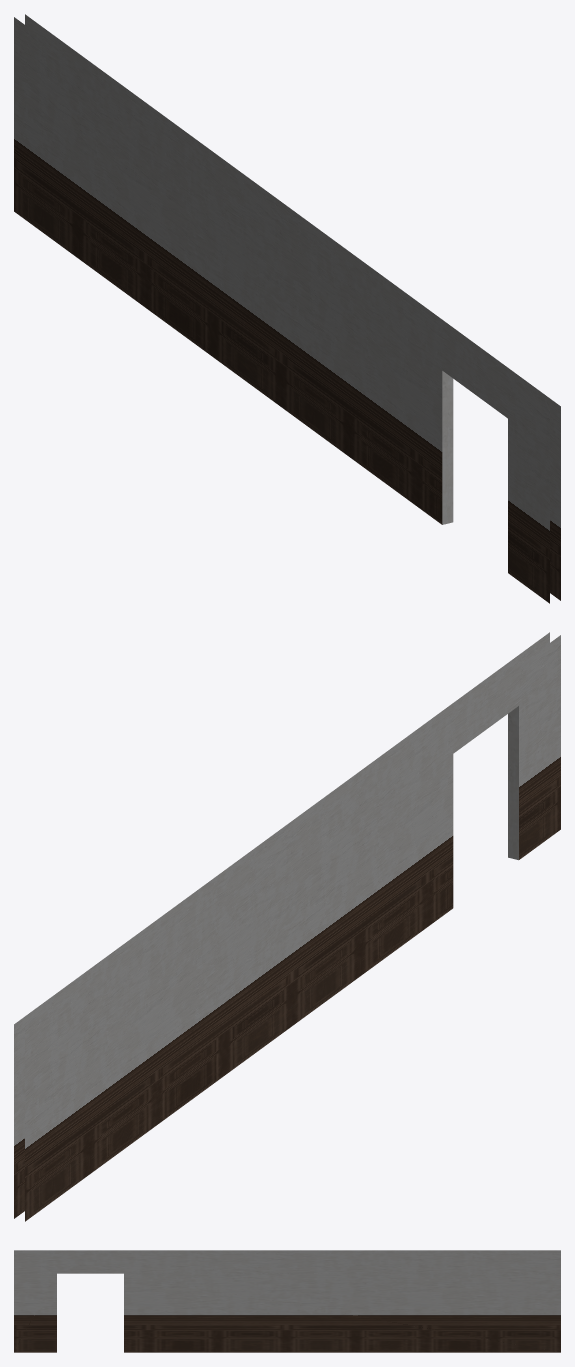
The model's file is SM_Partition.fbx.
3 views of the same model, one above another, from view 1: azimuth 30°, elevation 25°; view 2: azimuth 150°, elevation 25°; view 3: azimuth 270°, elevation 25° (orthographic). The views are drawn at different scales.
Visible parts, largest first — view 1: Box070; view 2: Box070; view 3: Box070.
Part boxes in pixels (x1,y1,x2,y2): Box070: [14, 14, 560, 603]; Box070: [14, 632, 560, 1221]; Box070: [14, 1250, 560, 1352].
Bounding box in the file's own units: 20 × 337 × 1680.
